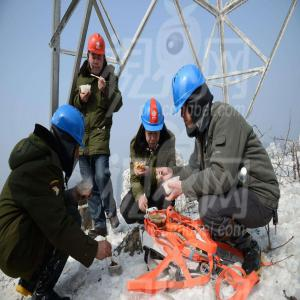blue: (49, 104, 87, 173), (170, 64, 209, 131), (141, 98, 166, 149)
red: (87, 31, 108, 76)
